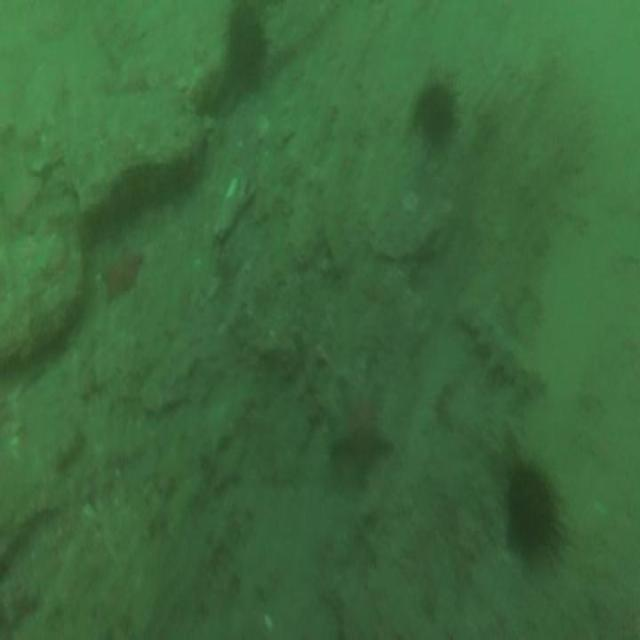echinus: (508, 464, 554, 558), (229, 9, 265, 87), (416, 85, 457, 150)
holothurian: (470, 310, 545, 406)
starfish: (331, 381, 393, 482), (99, 245, 141, 302)
